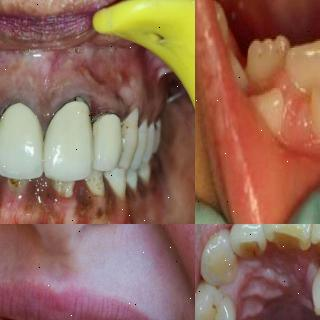Gum Swelling: (0, 74, 146, 135), (0, 173, 122, 208)
calculus: (52, 90, 90, 146), (116, 115, 134, 165), (91, 106, 115, 139)
cavities: (150, 120, 162, 137)
maligned: (245, 28, 289, 84), (251, 87, 289, 133), (292, 260, 320, 320), (295, 31, 320, 91), (309, 87, 320, 137)
stains: (84, 170, 104, 200), (8, 178, 26, 192)
